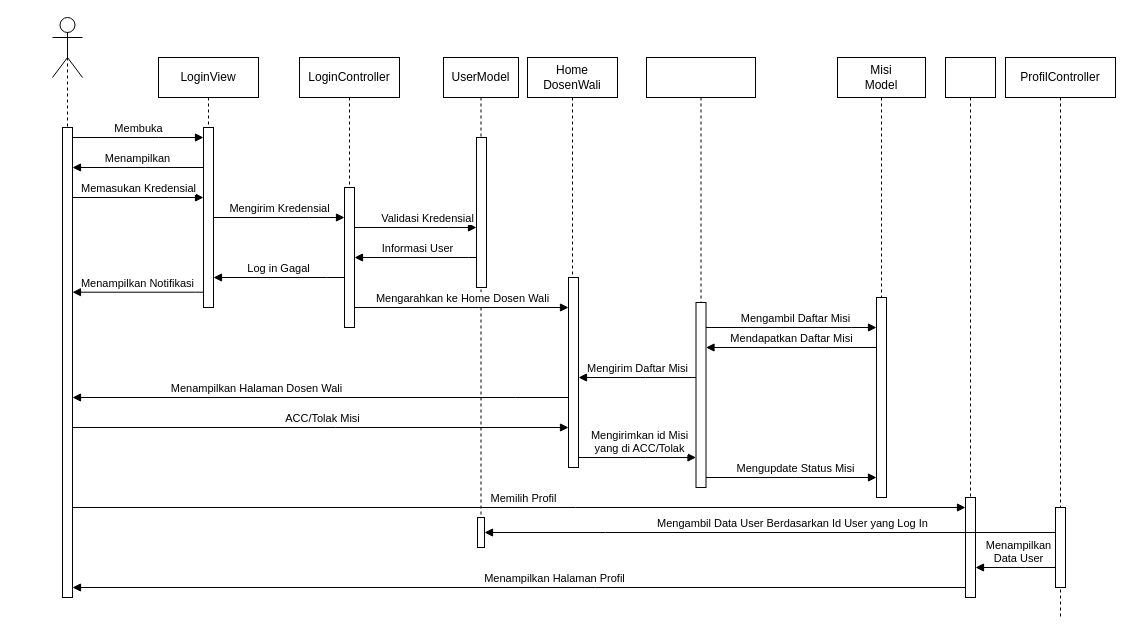
Image size: 1133x635. Some labels were removed from this diagram. Here are the shapes that lost their labels. From the top down, the box of each, then its label:
(52, 16, 82, 78): Dosen Wali
(646, 56, 756, 488): DosenWali Controller
(944, 56, 996, 598): Profil View
